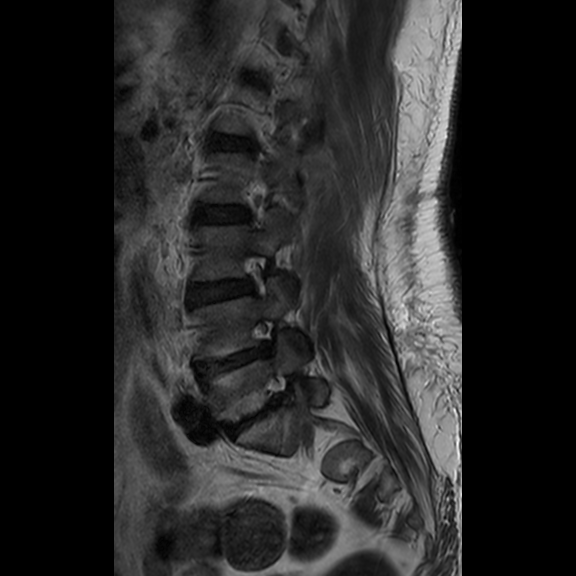LFS1: (244, 310, 286, 363)
